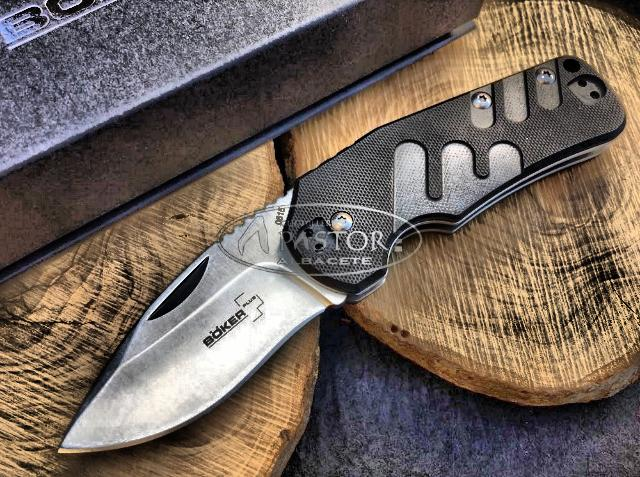knife: (44, 181, 363, 455)
